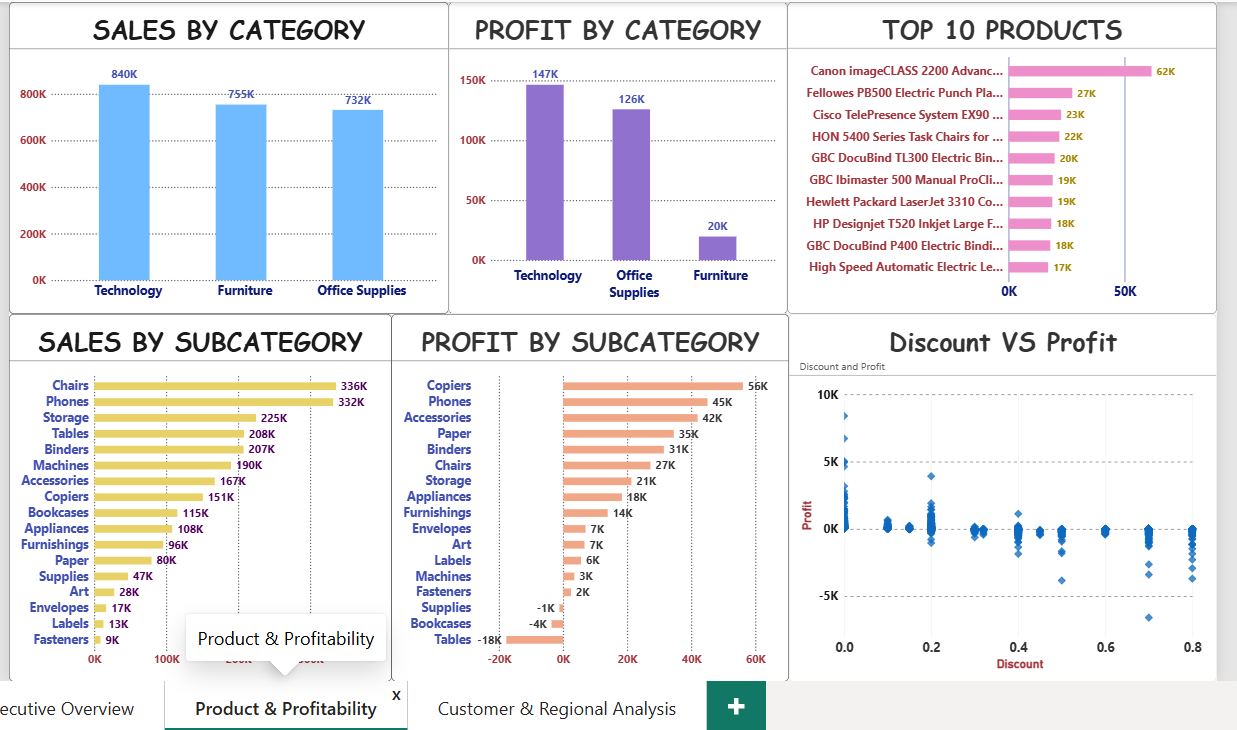

The dashboard page shown, as its layout file describes it:
{"tool":"powerbi","page":{"name":"Product & Profitability","canvas":[1920,1080],"ordinal":1},"visuals":[{"type":"columnChart","title":"SALES BY CATEGORY","fields":{"Category":["superstore_cleaned.Category"],"Y":["Sum(superstore_cleaned.Sales)"]},"box":[0,0,699.1,496.3],"z":0},{"type":"columnChart","title":"PROFIT BY CATEGORY","fields":{"Category":["superstore_cleaned.Category"],"Y":["Sum(superstore_cleaned.Profit)"]},"box":[699.1,0,539.2,496.3],"z":1000},{"type":"barChart","title":"SALES BY SUBCATEGORY","fields":{"Category":["superstore_cleaned.Sub-Category"],"Y":["Sum(superstore_cleaned.Sales)"]},"box":[0,496.3,608.4,584.5],"z":2000},{"type":"clusteredBarChart","title":"PROFIT BY SUBCATEGORY","fields":{"Category":["superstore_cleaned.Sub-Category"],"Y":["Sum(superstore_cleaned.Profit)"]},"box":[608.4,496.3,632.3,584.5],"z":3000},{"type":"barChart","title":"TOP 10 PRODUCTS ","fields":{"Category":["superstore_cleaned.Product Name"],"Y":["Sum(superstore_cleaned.Sales)"]},"box":[1238.3,0,682.4,496.3],"z":4000},{"type":"scatterChart","title":"Discount VS Profit","fields":{"X":["superstore_cleaned.Discount"],"Y":["superstore_cleaned.Profit"]},"box":[1240.7,496.3,680,584.5],"z":5000}]}

Visuals, with their boxes on the page's 1920x1080 design canvas (x1, y1, x2, y2). These are canvas units, not pixel positions in the 1237x730 screenshot, which may show the page scaled, cropped or inside an application window:
"SALES BY CATEGORY" columnChart: (x1=0, y1=0, x2=699, y2=496)
"PROFIT BY CATEGORY" columnChart: (x1=699, y1=0, x2=1238, y2=496)
"SALES BY SUBCATEGORY" barChart: (x1=0, y1=496, x2=608, y2=1081)
"PROFIT BY SUBCATEGORY" clusteredBarChart: (x1=608, y1=496, x2=1241, y2=1081)
"TOP 10 PRODUCTS " barChart: (x1=1238, y1=0, x2=1921, y2=496)
"Discount VS Profit" scatterChart: (x1=1241, y1=496, x2=1921, y2=1081)
